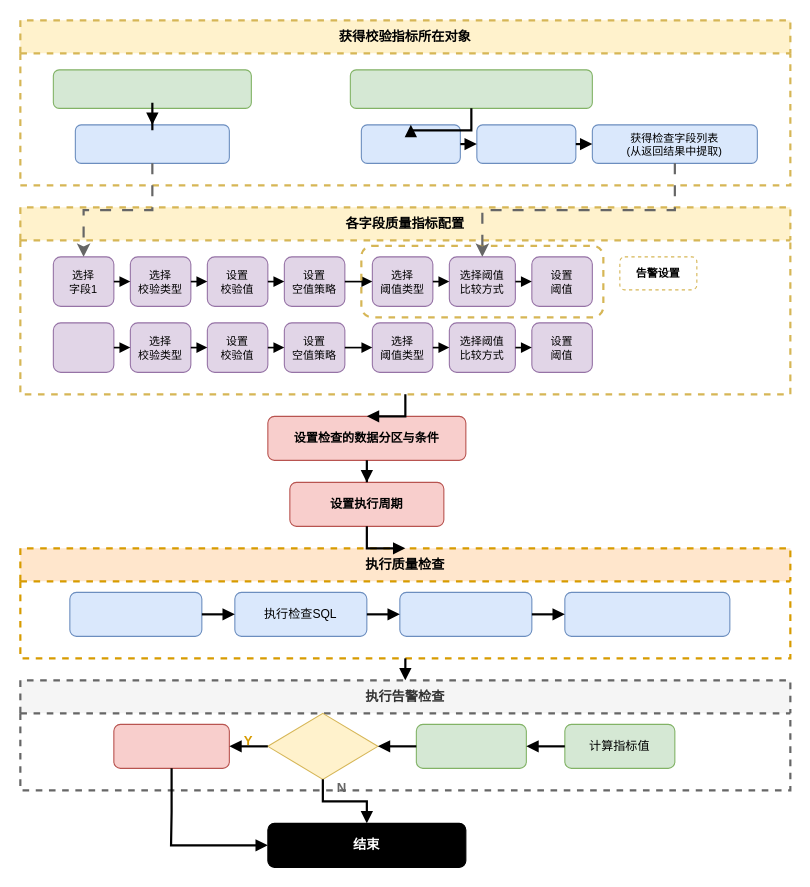
Image size: 810x887. Some labels were removed from this diagram. The shapes that lost their labels are listed below. From the top down, each one's centre as x and y in pixels, then its label:
At (151,88): "1. 单数据集（表）校验目标获取".
At (470,88): "2. 跨数据源与数据集（表）校验目标获取".
At (151,143): "获得单表字段列表".
At (410,143): "编写自定义 联合SQL".
At (526,143): "执行SQL (limit 1)".
At (83,347): "选择 字段N".
At (135,613): "生成检查SQL".
At (465,613): "获得检查数据".
At (647,613): "执行检查 获得未通过数与总数".
At (171,745): "发出告警通知".
At (322,745): "超过阈值?".
At (470,745): "与阈值比较".
